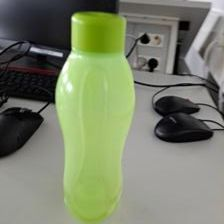bottle: (54, 8, 138, 223)
